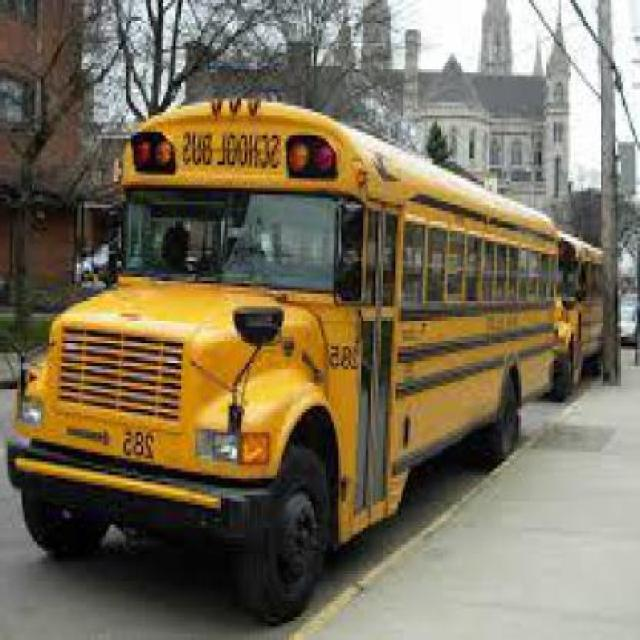bus: (9, 102, 556, 620)
